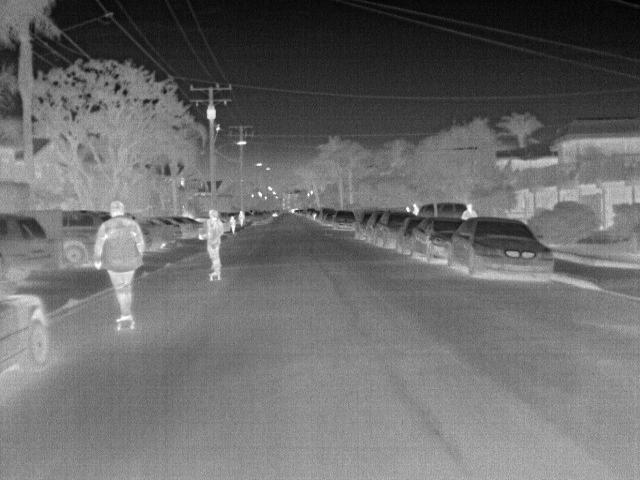car: (448, 219, 558, 282), (25, 208, 104, 267), (2, 287, 50, 382), (1, 212, 56, 287), (410, 218, 464, 266), (375, 211, 411, 248), (142, 216, 182, 248), (395, 218, 421, 254), (417, 200, 468, 218), (169, 214, 205, 239), (362, 210, 388, 244), (331, 208, 358, 231), (354, 211, 375, 240), (318, 205, 333, 223), (251, 212, 270, 226), (324, 212, 336, 227)
person: (94, 198, 148, 320), (200, 208, 226, 271), (459, 202, 480, 220), (235, 209, 247, 230), (227, 214, 239, 234)
